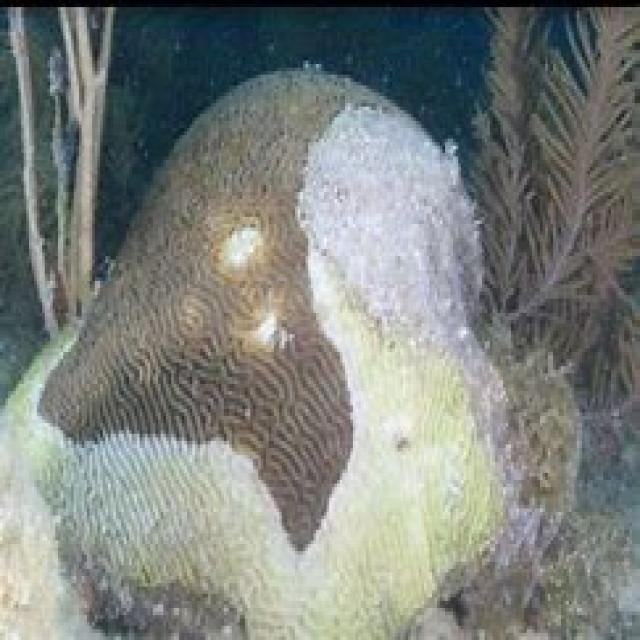Coral: (0, 64, 508, 640)
